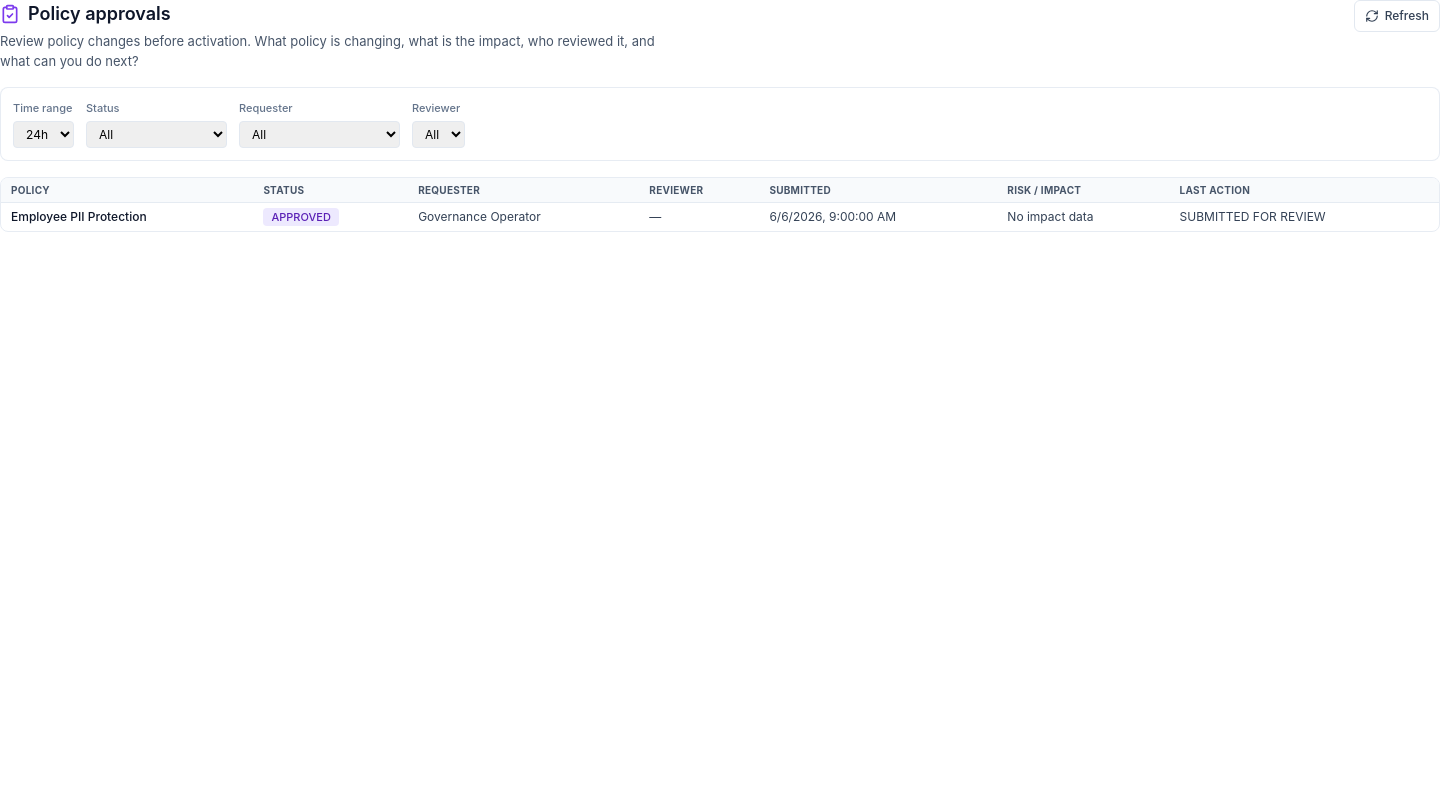
Test: ApprovalWorkflowPage › shows activate button when policy is approved
Click the row with test id "approval-row-7": click(79, 217) [1,202,1439,231]
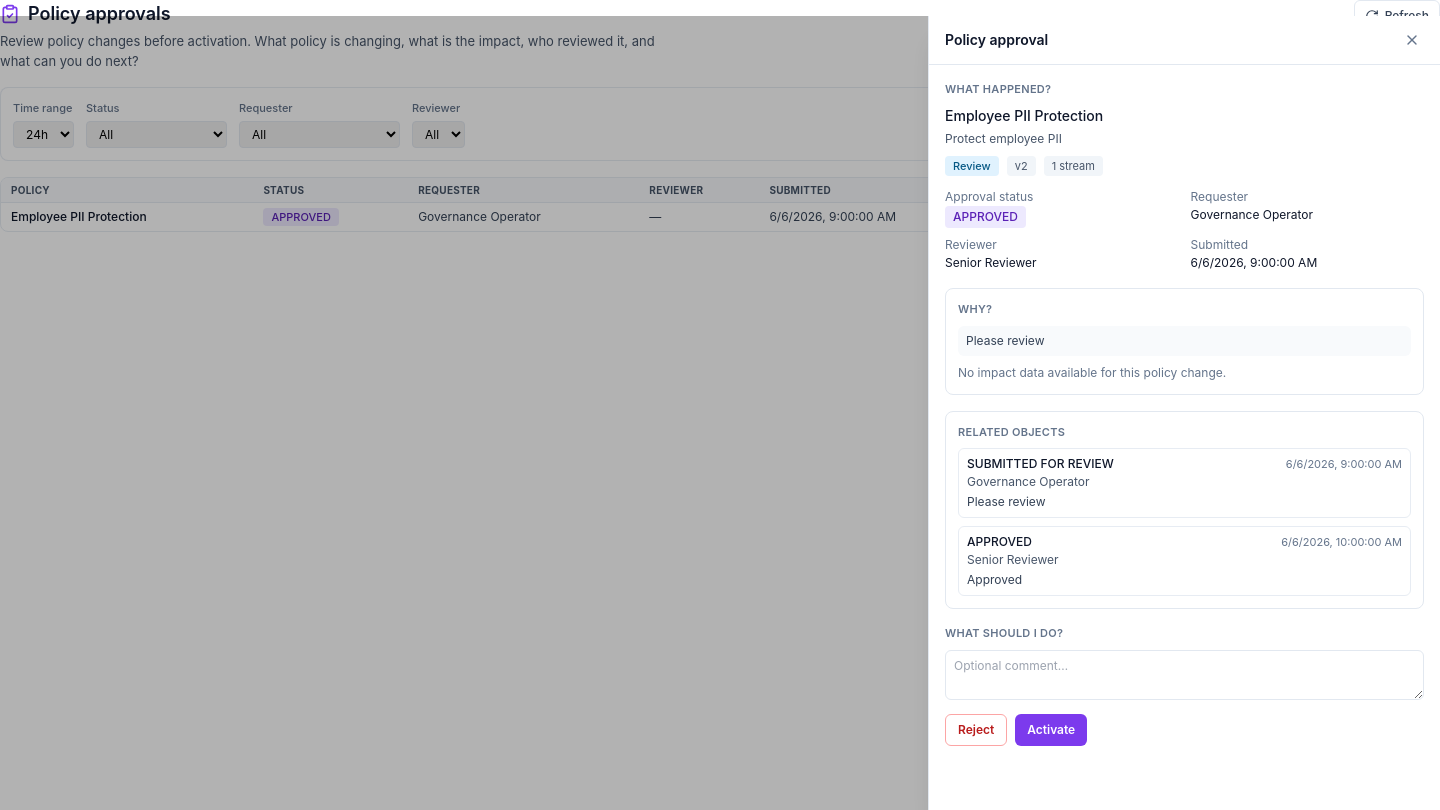
Now the button with test id "approval-action-activate" is shown, box [1015,714,1087,746]
